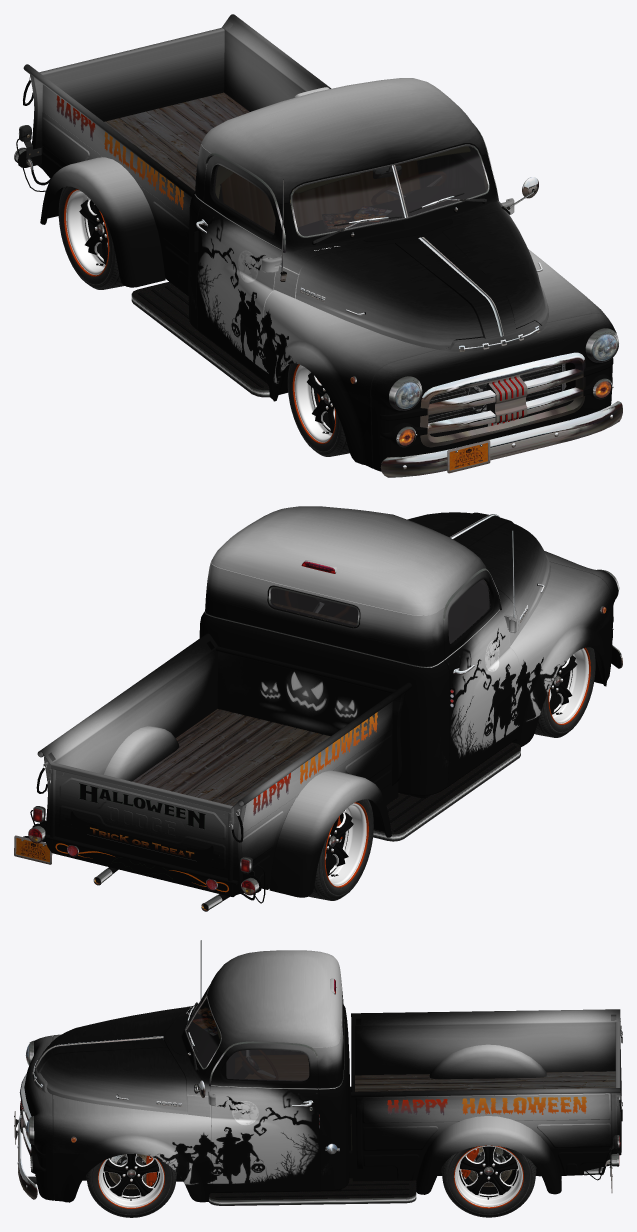
The model's file is nissan_4x4.glb.
3 renders of one model, top to bottom at view 1: azimuth 30°, elevation 25°; view 2: azimuth 150°, elevation 25°; view 3: azimuth 270°, elevation 25°, orthographic. The views are drawn at different scales.
Visible parts, largest first — view 1: Object_2, Object_21, Object_46, Object_47, Object_9, Object_33, Object_11, Object_41, Object_4, Object_19, Object_8, Object_43 (+5 smaller); view 2: Object_2, Object_47, Object_21, Object_46, Object_33, Object_11, Object_41, Object_9, Object_4, Object_45, Object_43, Object_3 (+5 smaller); view 3: Object_2, Object_21, Object_46, Object_47, Object_37, Object_33, Object_43, Object_11, Object_4, Object_9, Object_8, Object_24 (+4 smaller).
Part boxes in pixels (x1,y1,x2,y2): Object_2: (17, 14, 616, 471); Object_21: (14, 123, 622, 477); Object_46: (212, 146, 488, 236); Object_47: (104, 92, 249, 190); Object_9: (15, 80, 612, 446); Object_33: (66, 190, 334, 442); Object_11: (132, 282, 269, 390); Object_41: (58, 186, 341, 454); Object_4: (56, 95, 184, 209); Object_19: (428, 364, 566, 423); Object_8: (47, 187, 613, 447); Object_43: (79, 199, 334, 432); Object_2: (32, 506, 618, 897); Object_47: (132, 708, 330, 805); Object_21: (14, 514, 622, 911); Object_46: (270, 579, 490, 643); Object_33: (325, 648, 588, 886); Object_11: (373, 742, 520, 834); Object_41: (319, 647, 595, 898); Object_9: (30, 530, 563, 903); Object_4: (253, 712, 377, 815); Object_45: (65, 811, 219, 861); Object_43: (325, 655, 577, 875); Object_3: (78, 783, 205, 829); Object_2: (24, 950, 622, 1202); Object_21: (14, 940, 619, 1205); Object_46: (186, 985, 342, 1081); Object_47: (355, 1071, 615, 1091); Object_37: (89, 1146, 532, 1216); Object_33: (98, 1145, 522, 1207); Object_43: (103, 1146, 517, 1196); Object_11: (209, 1114, 416, 1200); Object_4: (387, 1096, 586, 1115); Object_9: (116, 992, 622, 1200); Object_8: (20, 1004, 541, 1198); Object_24: (108, 1147, 512, 1189).
Bounding box in the file's own units: 2.23 × 1.88 × 5.39.
46 materials, 40 textured.
